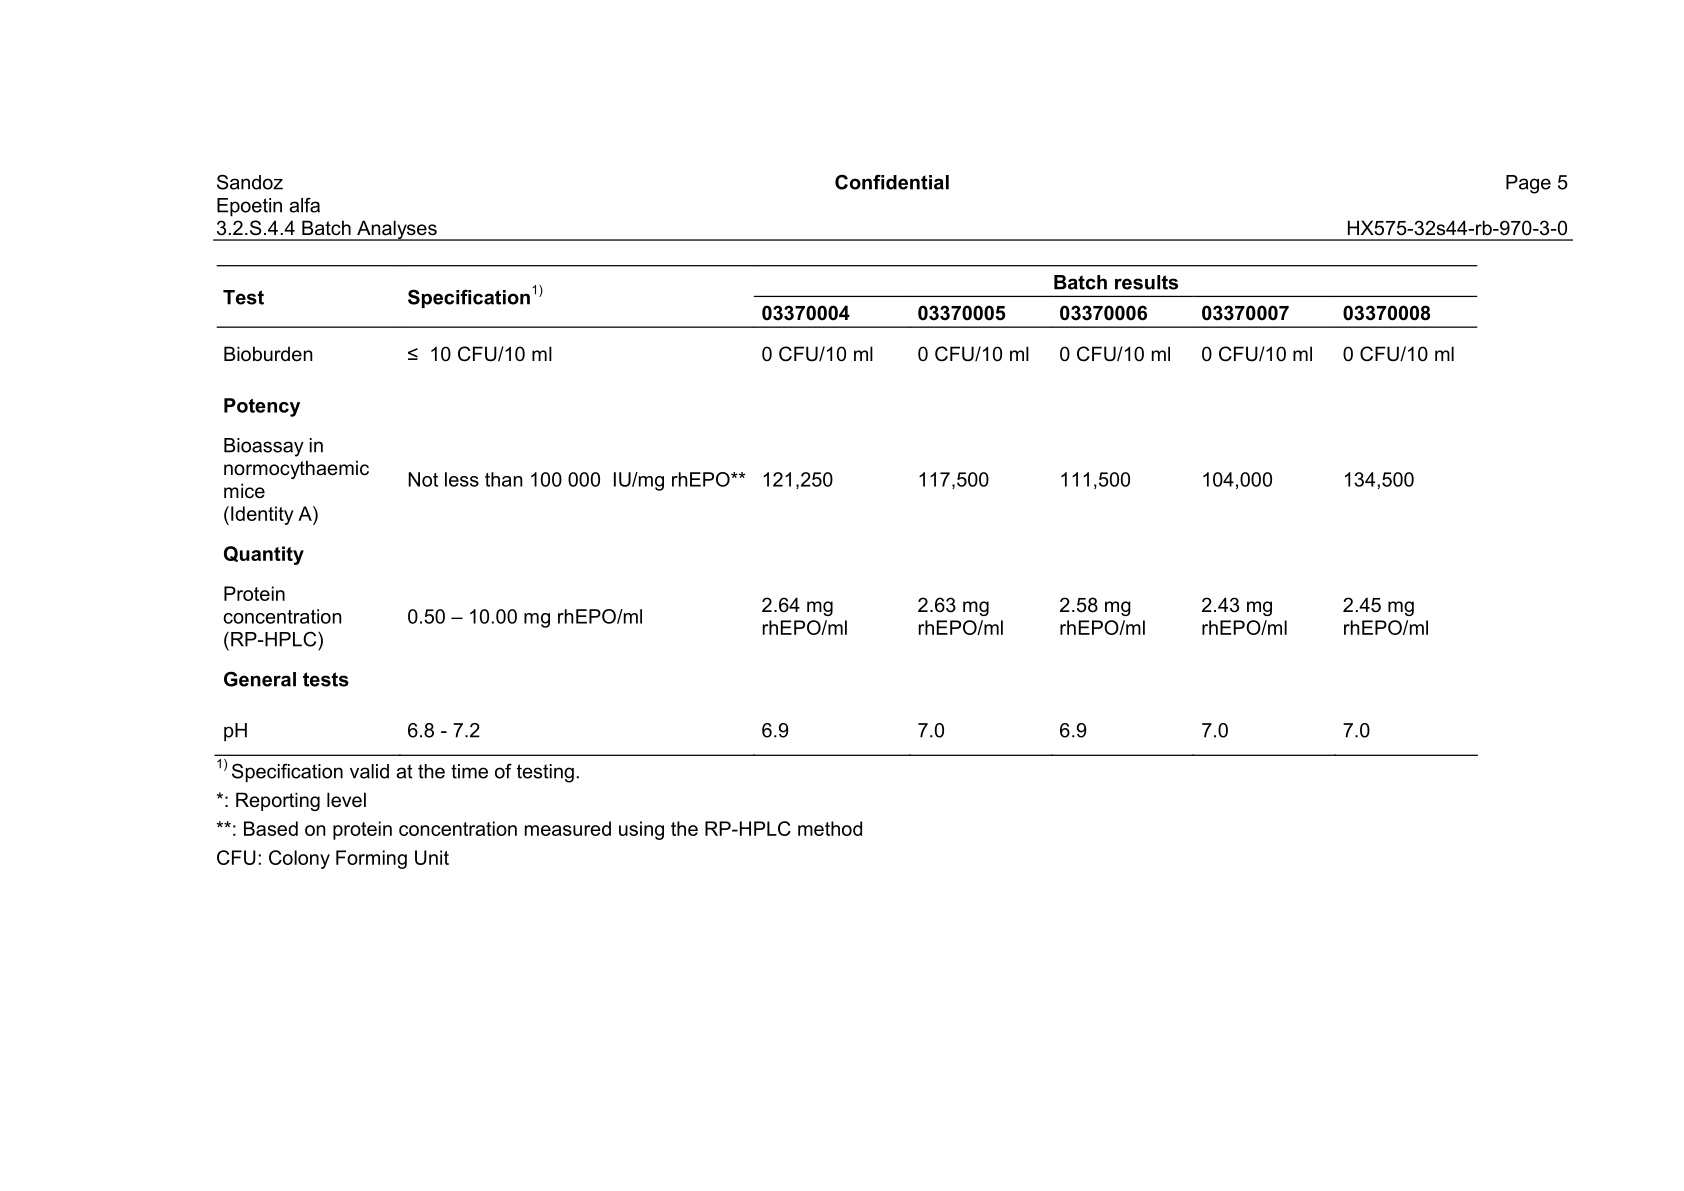partial_lined_merged_cells: (218, 264, 1482, 757)
